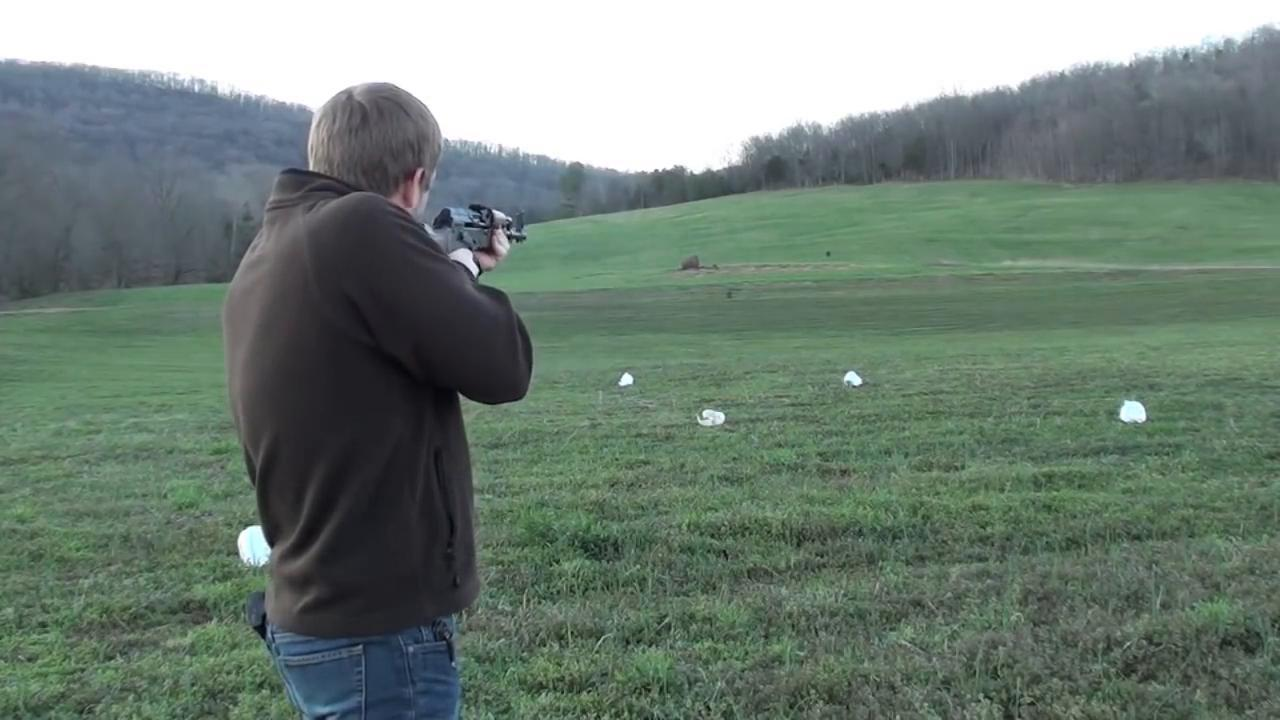AK47 Rifle: (415, 209, 531, 251)
